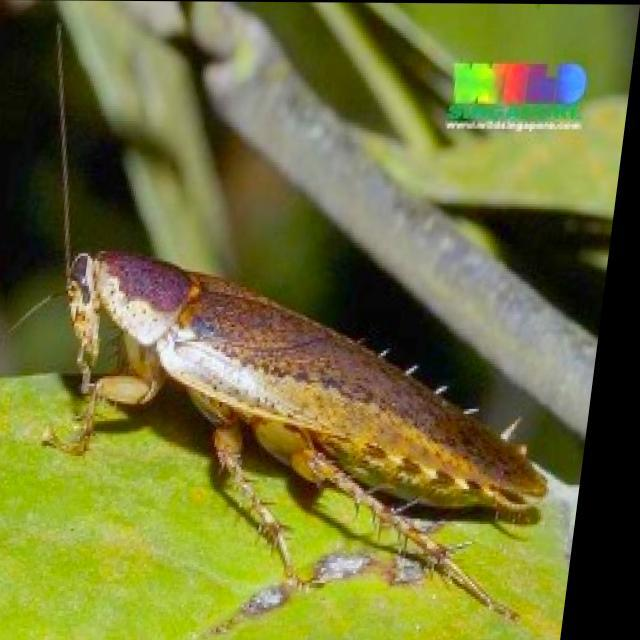cockroach: (48, 242, 553, 629)
